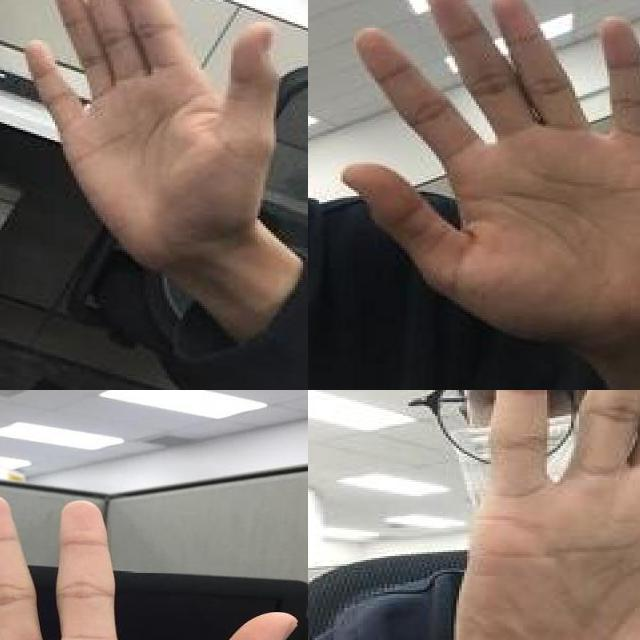hand: (340, 0, 640, 340), (23, 0, 285, 268), (423, 390, 640, 640), (0, 491, 298, 640)
